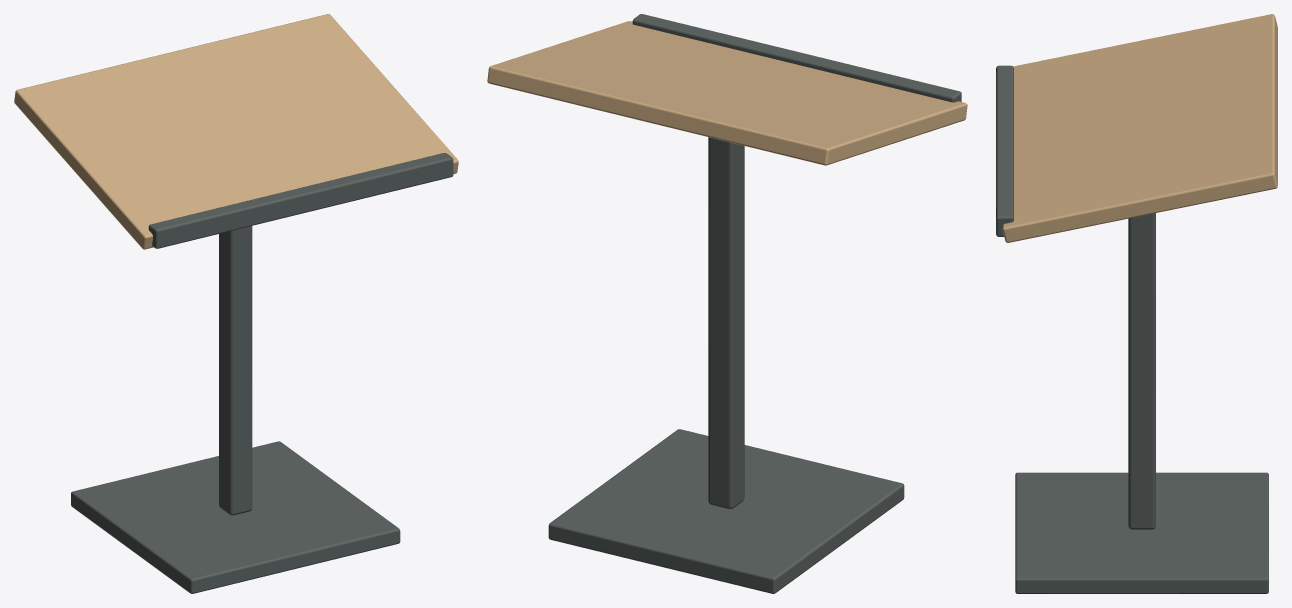
The model's file is public-library-and-reading-garden-public-library-and-r-686072c6__30926.glb.
The picture shows the model from 3 angles, left to right: view 1: azimuth 30°, elevation 25°; view 2: azimuth 150°, elevation 25°; view 3: azimuth 270°, elevation 25°; orthographic projection. The views are drawn at different scales.
Parts seen in each view (by area): view 1: public-library-and-reading-garden-newspaper-reading-stand; view 2: public-library-and-reading-garden-newspaper-reading-stand; view 3: public-library-and-reading-garden-newspaper-reading-stand.
Boxes of the visible parts, x1,y1,x2,y2 form: public-library-and-reading-garden-newspaper-reading-stand: (14, 14, 458, 593); public-library-and-reading-garden-newspaper-reading-stand: (487, 14, 967, 593); public-library-and-reading-garden-newspaper-reading-stand: (996, 14, 1277, 593).
Bounding box in the file's own units: 0.75 × 0.9731 × 0.5548.
